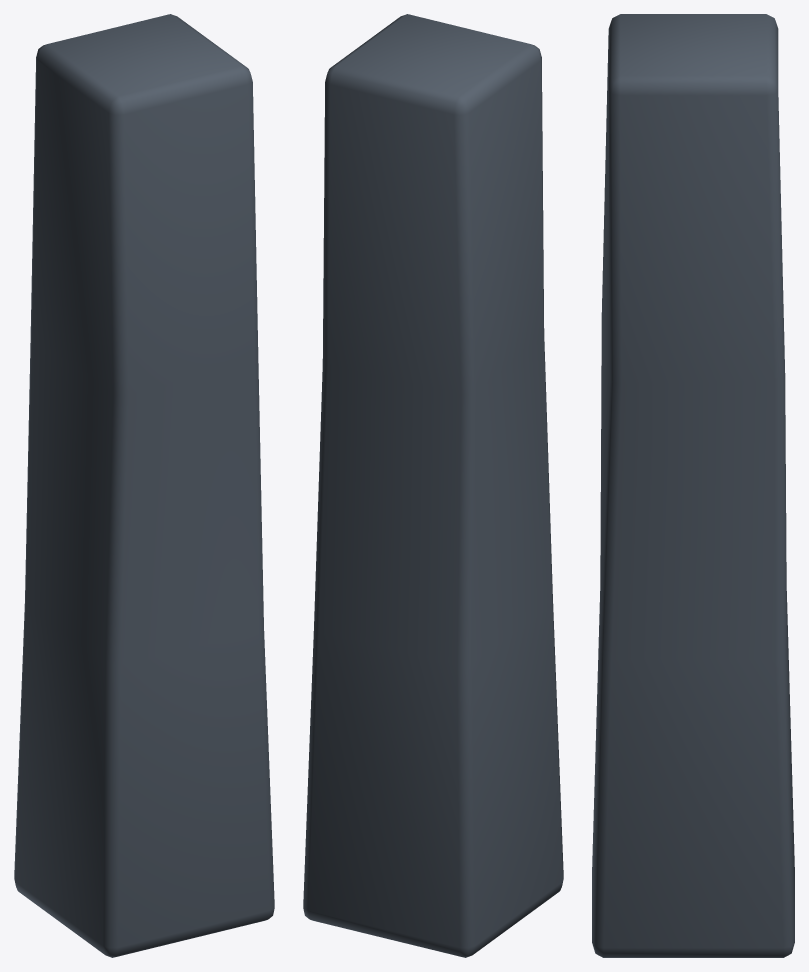
Rendered from BB_Env_pillar.fbx.
3 renders of one model, left to right at view 1: azimuth 30°, elevation 25°; view 2: azimuth 150°, elevation 25°; view 3: azimuth 270°, elevation 25°, orthographic. The views are drawn at different scales.
Parts seen in each view (by area): view 1: mesh_pillar; view 2: mesh_pillar; view 3: mesh_pillar.
Part boxes in pixels (x1,y1,x2,y2): mesh_pillar: [14, 14, 274, 957]; mesh_pillar: [303, 14, 563, 957]; mesh_pillar: [592, 14, 794, 957].
Bounding box in the file's own units: 66.07 × 315 × 66.07.
Materials: 1 (1 with a texture image).
